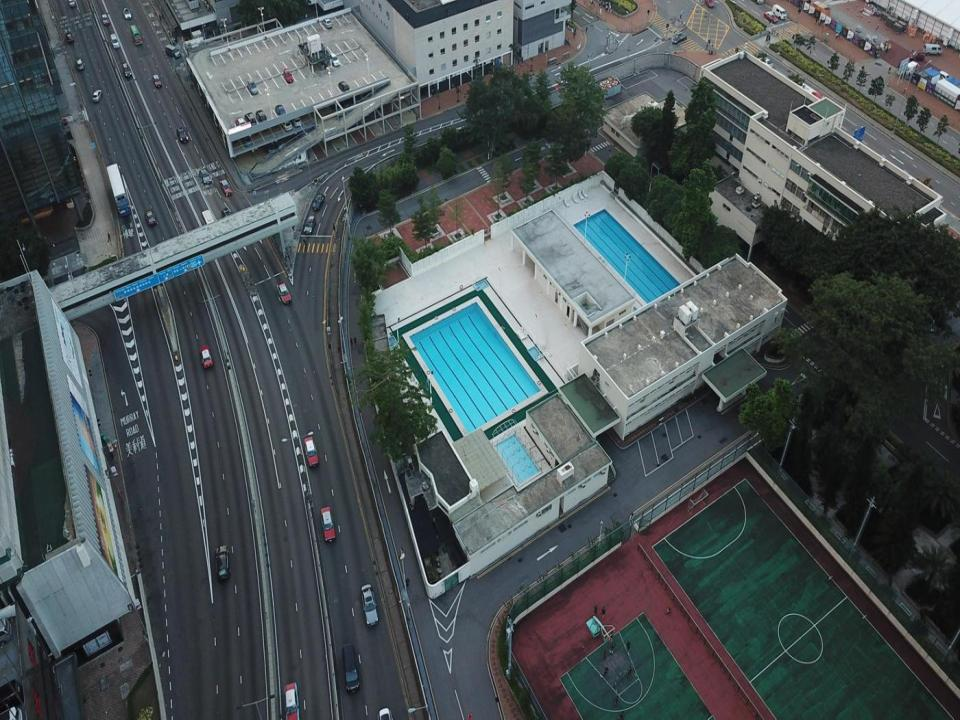bus: (106, 162, 132, 218), (790, 77, 826, 105), (202, 209, 218, 238)
car: (362, 583, 378, 626), (284, 682, 300, 719), (215, 545, 232, 579), (321, 505, 336, 541), (304, 436, 318, 468), (200, 344, 213, 369), (277, 282, 291, 304), (220, 178, 233, 196), (177, 126, 188, 144), (313, 193, 324, 211), (304, 216, 315, 234), (758, 56, 774, 68), (200, 167, 211, 184), (671, 33, 687, 44), (146, 209, 156, 226), (247, 80, 258, 95), (338, 80, 350, 93), (764, 11, 777, 23), (246, 112, 256, 126), (222, 207, 232, 220), (123, 61, 131, 77), (152, 74, 161, 88), (330, 52, 339, 66), (793, 34, 804, 45), (122, 7, 132, 19), (323, 16, 333, 28), (256, 110, 266, 122), (242, 134, 252, 146), (282, 120, 292, 132), (284, 70, 292, 83), (276, 104, 285, 115), (235, 117, 244, 128), (66, 32, 74, 44), (75, 58, 83, 70), (102, 13, 109, 26), (92, 90, 100, 100), (704, 0, 714, 7), (294, 116, 300, 125), (68, 0, 75, 6)
van: (343, 643, 359, 694), (1, 680, 23, 710), (130, 24, 142, 46), (2, 706, 22, 719), (922, 43, 942, 56), (772, 4, 787, 20), (166, 44, 180, 58), (910, 50, 924, 62), (110, 33, 120, 48), (939, 70, 950, 82)
